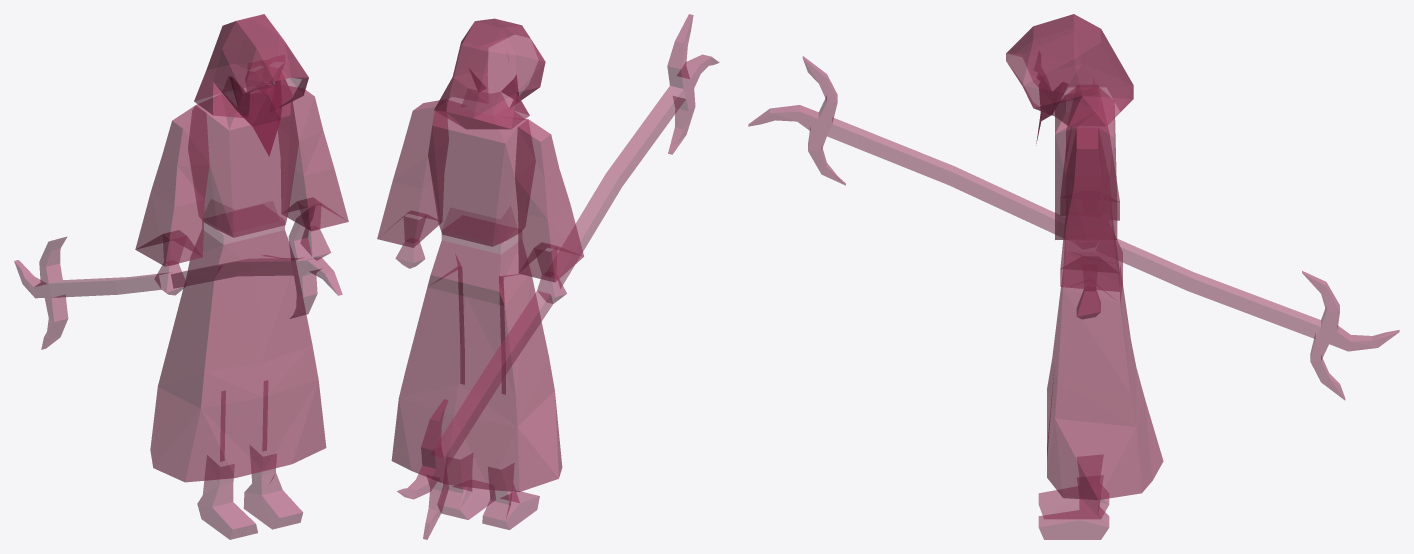
The model's file is barrows-brothers.gltf.
The picture shows the model from 3 angles, left to right: view 1: azimuth 30°, elevation 25°; view 2: azimuth 150°, elevation 25°; view 3: azimuth 270°, elevation 25°; orthographic projection. The views are drawn at different scales.
Bounding box in the file's own units: 78 × 204 × 240.
1 material, 1 textured.
